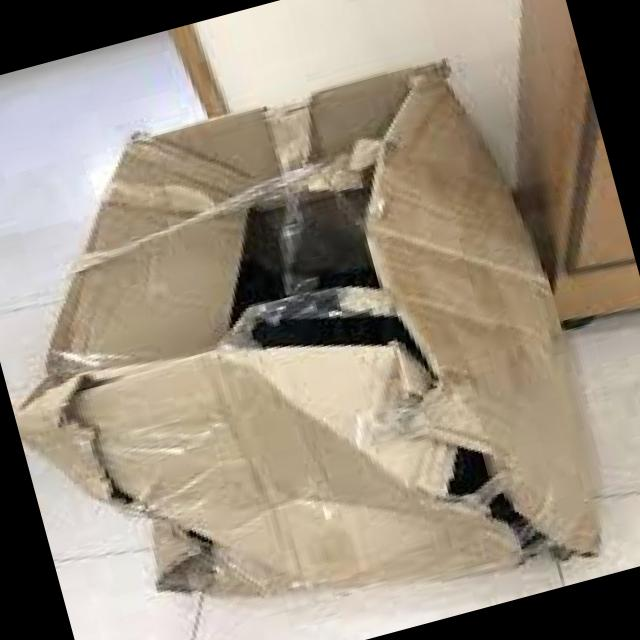box: (1, 61, 611, 598)
crushed: (95, 460, 227, 593), (58, 374, 127, 470)
tear: (226, 170, 603, 579), (61, 66, 434, 348)
